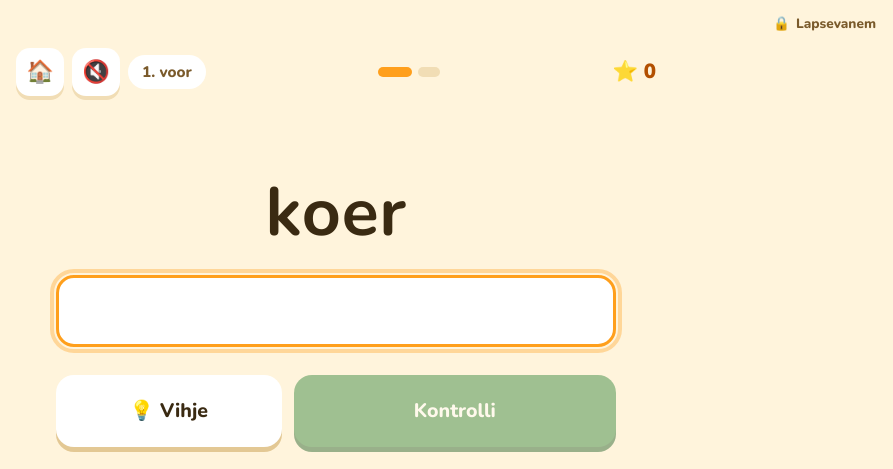
Test case: training screen › tells the child when the week ended during training
Type "dog" into the field named "Sinu vastus" at (336, 311), box [56,275,616,347]
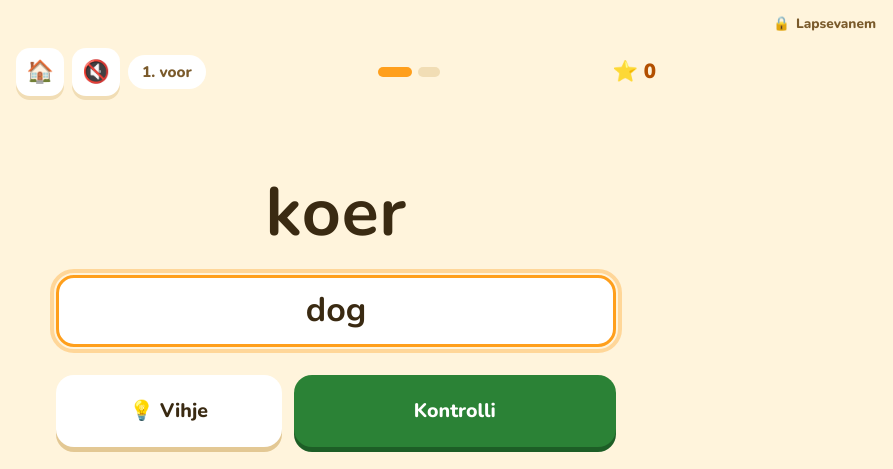
Click the button "Kontrolli" at (455, 411), box [294,375,616,447]
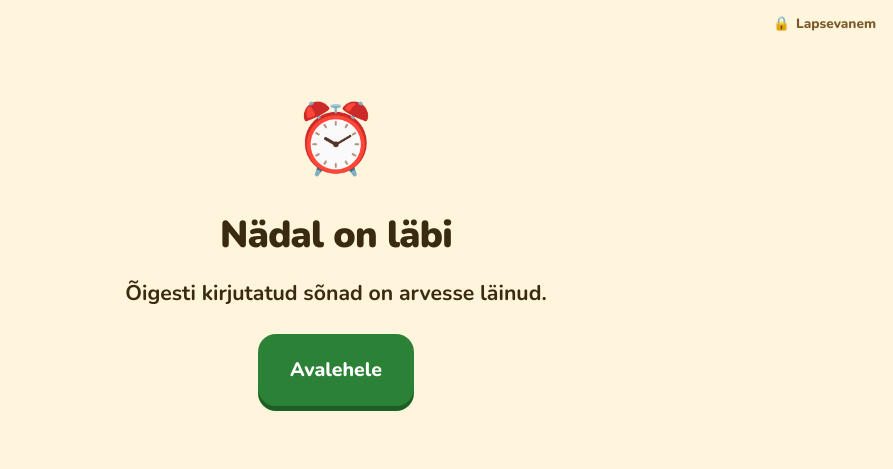
Expected: the heading "Nädal on läbi" is shown, [220,214,452,255]
